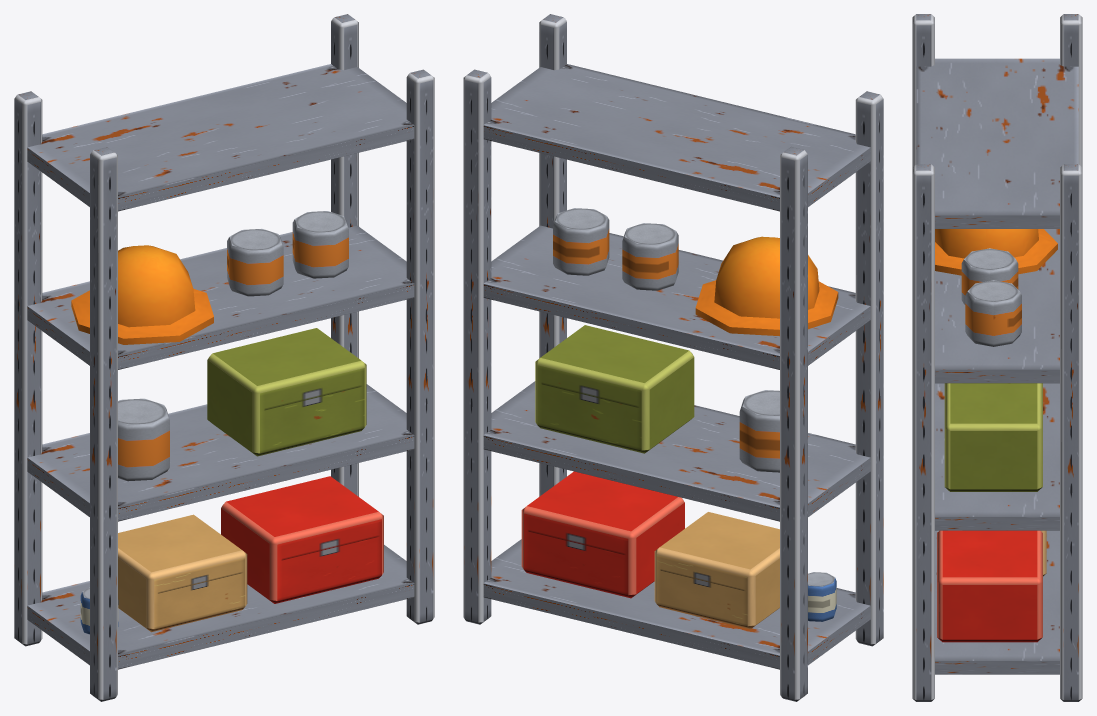
Rendered from Shelf_Metal.fbx.
The picture shows the model from 3 angles, left to right: view 1: azimuth 30°, elevation 25°; view 2: azimuth 150°, elevation 25°; view 3: azimuth 270°, elevation 25°; orthographic projection. The views are drawn at different scales.
Visible parts, largest first — view 1: Shelf_Metal_Body, Shelf_Metal_Items; view 2: Shelf_Metal_Body, Shelf_Metal_Items; view 3: Shelf_Metal_Body, Shelf_Metal_Items.
Boxes of the visible parts, x1,y1,x2,y2 form: Shelf_Metal_Body: [14, 14, 434, 701]; Shelf_Metal_Items: [71, 211, 383, 634]; Shelf_Metal_Body: [463, 14, 883, 701]; Shelf_Metal_Items: [521, 208, 838, 629]; Shelf_Metal_Body: [912, 14, 1082, 701]; Shelf_Metal_Items: [935, 229, 1057, 642].
Size of the model in its own units: 1 by 1.55 by 0.45.
Materials: 1 (1 with a texture image).
